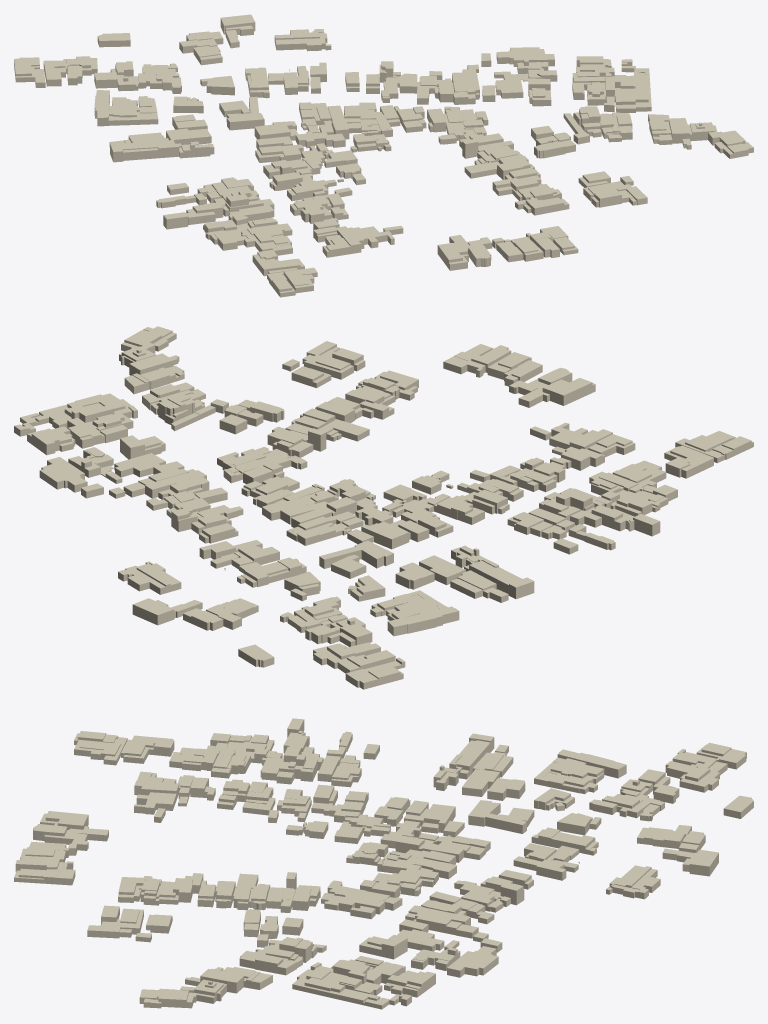
Rendered from cesium.glb.
The picture shows the model from 3 angles, top to bottom: view 1: azimuth 30°, elevation 25°; view 2: azimuth 150°, elevation 25°; view 3: azimuth 270°, elevation 25°; orthographic projection. The views are drawn at different scales.
Parts seen in each view (by area): view 1: 3DGeom-73, 3DGeom-172, 3DGeom-175, 3DGeom-182, 3DGeom-86, 3DGeom-64, 3DGeom-27, 3DGeom-445, 3DGeom-44, 3DGeom-21, 3DGeom-197, 3DGeom-180 (+4 smaller); view 2: 3DGeom-180, 3DGeom-172, 3DGeom-73, 3DGeom-197, 3DGeom-44, 3DGeom-21, 3DGeom-86, 3DGeom-46, 3DGeom-451, 3DGeom-182, 3DGeom-148, 3DGeom-445 (+6 smaller); view 3: 3DGeom-172, 3DGeom-73, 3DGeom-27, 3DGeom-451, 3DGeom-180, 3DGeom-307, 3DGeom-47, 3DGeom-182, 3DGeom-86, 3DGeom-44, 3DGeom-148, 3DGeom-146 (+16 smaller).
Part boxes in pixels (x1,y1,x2,y2): 3DGeom-73: (496, 47, 554, 66); 3DGeom-172: (226, 96, 264, 130); 3DGeom-175: (295, 130, 345, 148); 3DGeom-182: (166, 128, 211, 144); 3DGeom-86: (495, 74, 523, 98); 3DGeom-64: (275, 38, 325, 51); 3DGeom-27: (616, 72, 651, 112); 3DGeom-445: (252, 254, 300, 276); 3DGeom-44: (179, 31, 217, 53); 3DGeom-21: (254, 122, 292, 139); 3DGeom-197: (437, 241, 467, 268); 3DGeom-180: (94, 90, 109, 126); 3DGeom-180: (387, 606, 459, 636); 3DGeom-172: (319, 540, 393, 568); 3DGeom-73: (39, 457, 87, 492); 3DGeom-197: (542, 378, 592, 405); 3DGeom-44: (191, 604, 241, 630); 3DGeom-21: (361, 521, 409, 549); 3DGeom-86: (114, 453, 165, 477); 3DGeom-46: (132, 598, 174, 625); 3DGeom-451: (509, 379, 549, 407); 3DGeom-182: (419, 555, 465, 585); 3DGeom-148: (304, 341, 353, 379); 3DGeom-445: (670, 445, 713, 478); 3DGeom-172: (468, 800, 526, 833); 3DGeom-73: (447, 946, 498, 977); 3DGeom-27: (292, 969, 380, 1004); 3DGeom-451: (44, 826, 108, 850); 3DGeom-180: (557, 749, 626, 778); 3DGeom-307: (134, 792, 176, 814); 3DGeom-47: (679, 761, 727, 792); 3DGeom-182: (462, 769, 499, 796); 3DGeom-86: (397, 929, 444, 951); 3DGeom-44: (663, 825, 705, 849); 3DGeom-148: (87, 908, 143, 938); 3DGeom-146: (550, 758, 604, 778).
Size of the model in its own units: 327 by 8.8 by 365.
